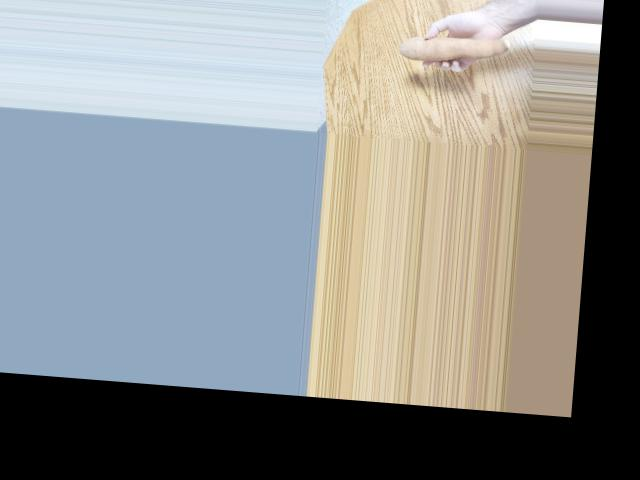sweet_potato: (393, 33, 506, 74)
